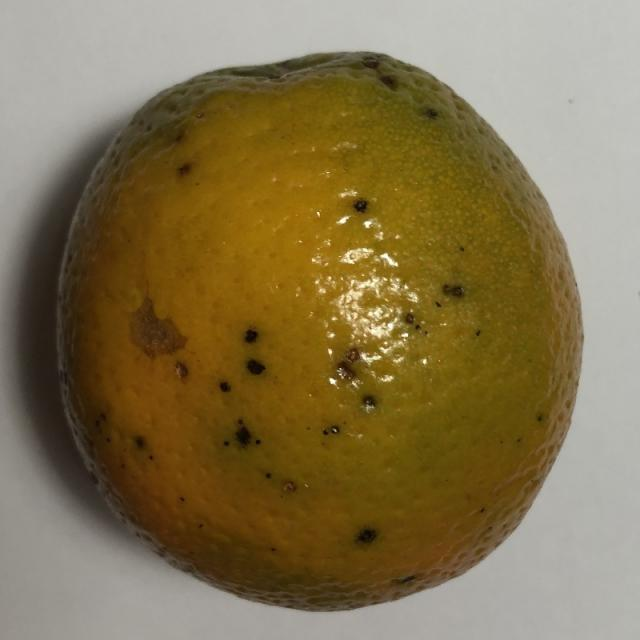blackspot: (48, 42, 592, 618)
